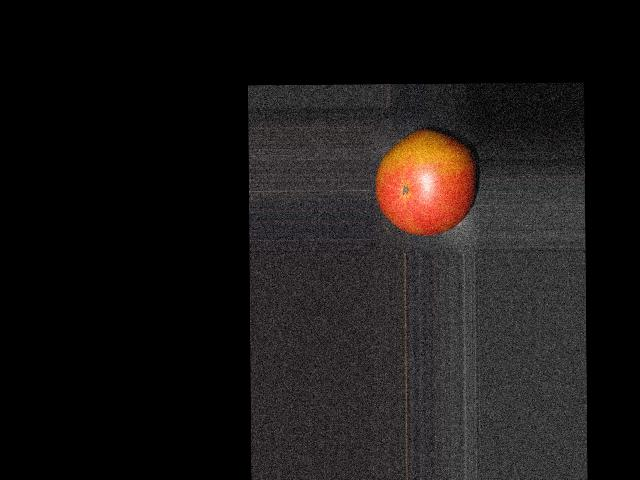tomato: (375, 130, 476, 235)
